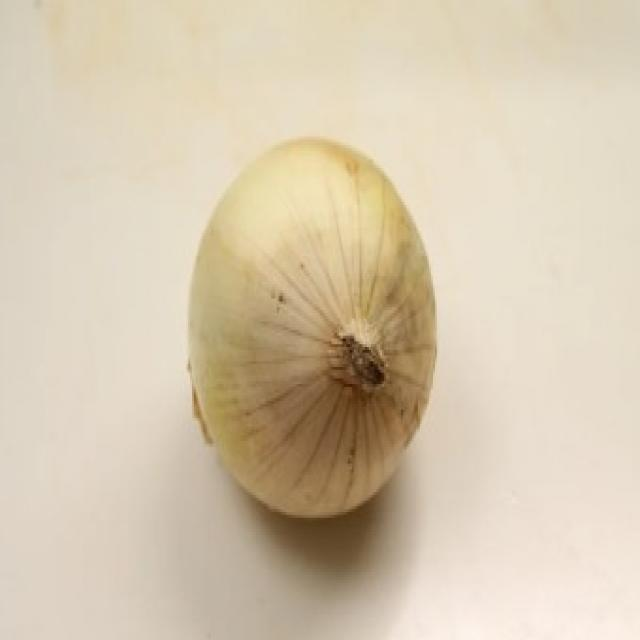onion: (175, 122, 459, 550)
